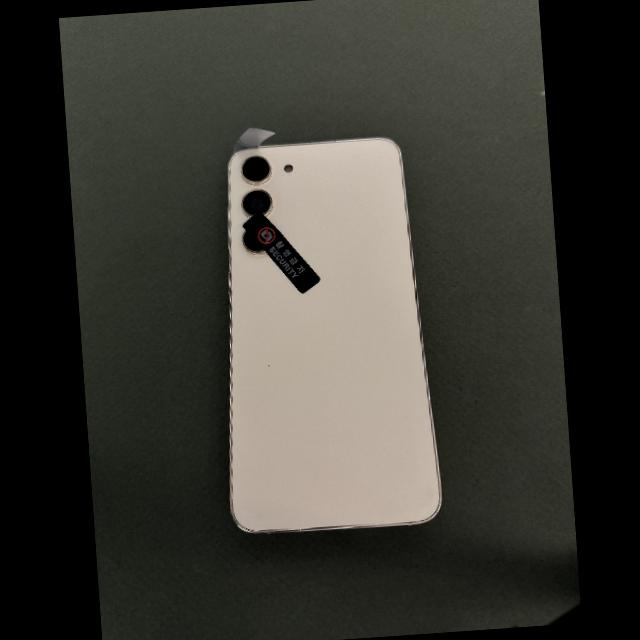lens: (242, 156, 271, 184), (242, 189, 272, 216), (243, 230, 267, 254)
phone: (226, 137, 441, 534)
sticker: (243, 212, 320, 293), (231, 127, 275, 155)
